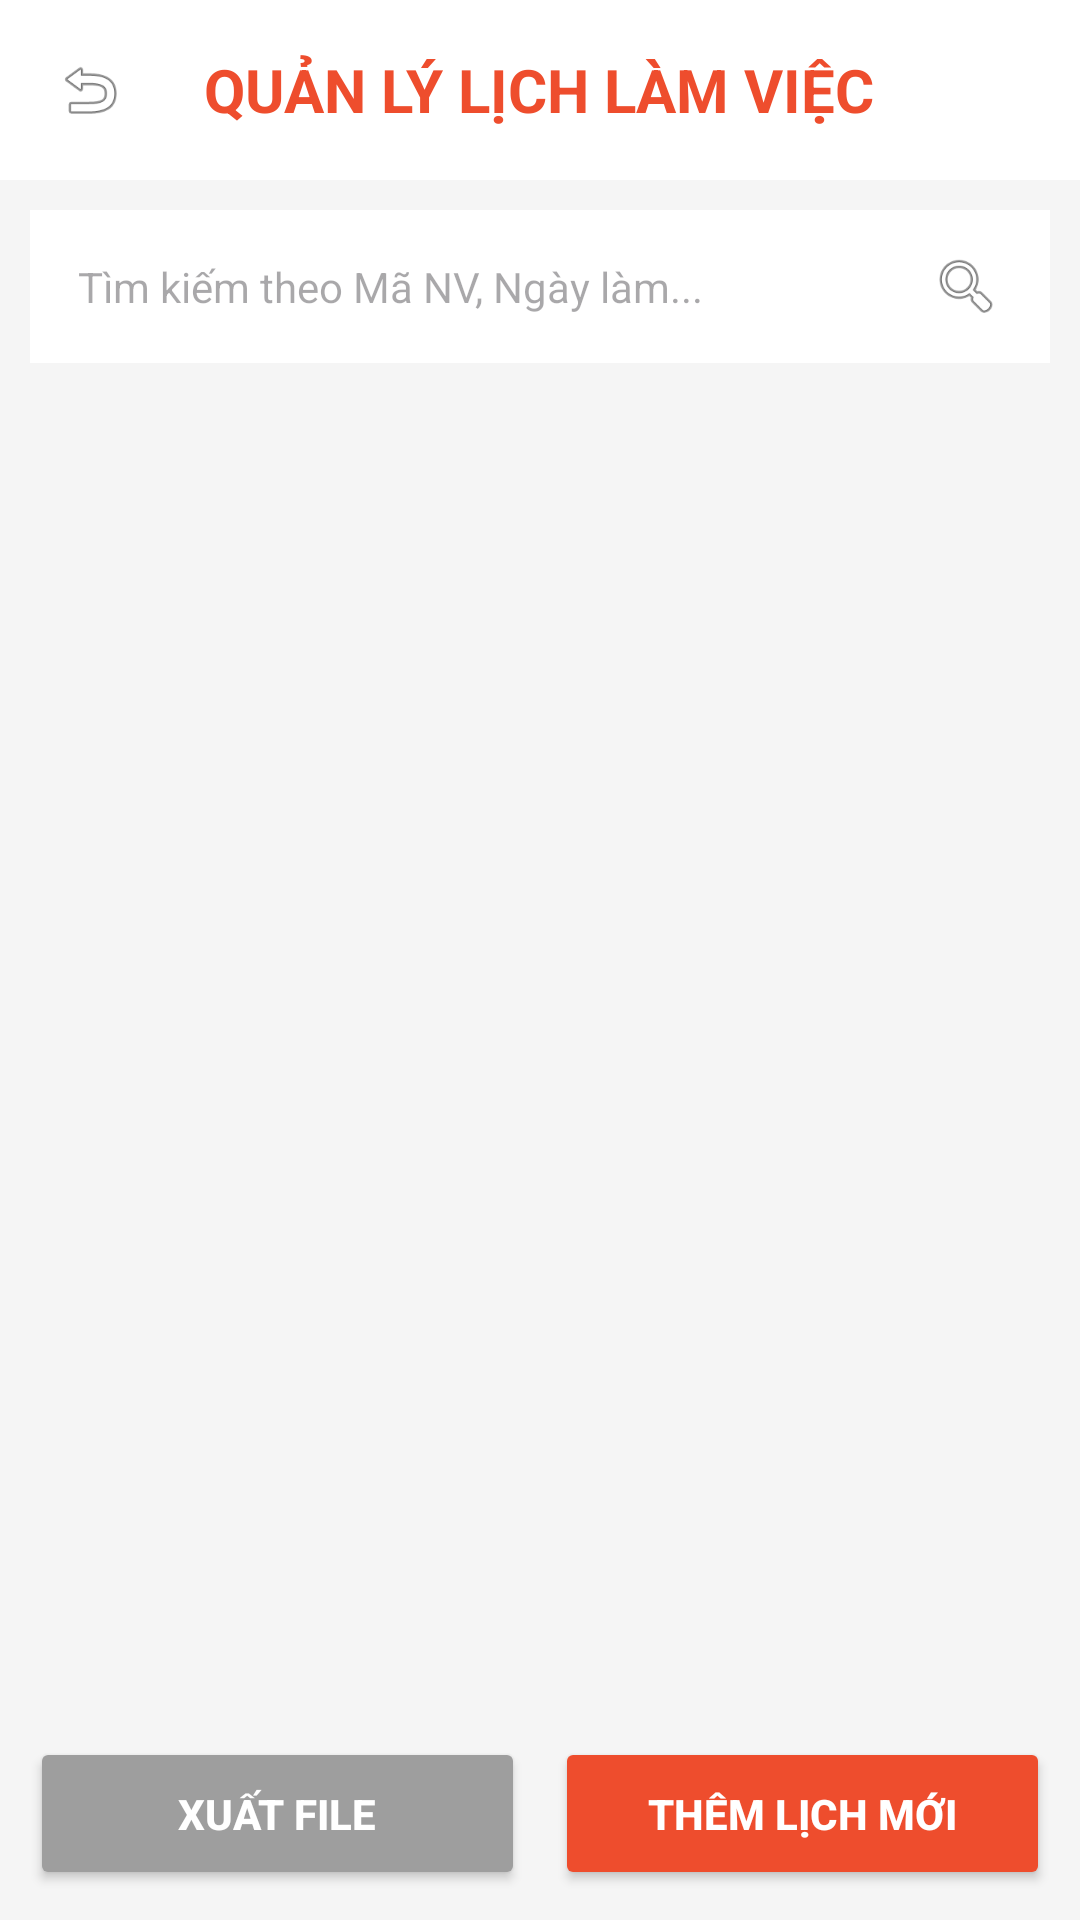

Icons on this 1080px×1920px Android screen, each with the point to tap as point (x, y):
Quay lại: point (91, 90)
